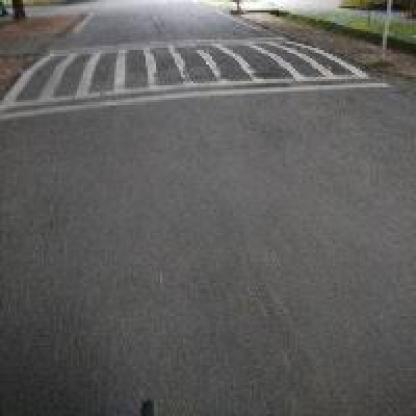Speed Bump: (0, 33, 393, 123)
